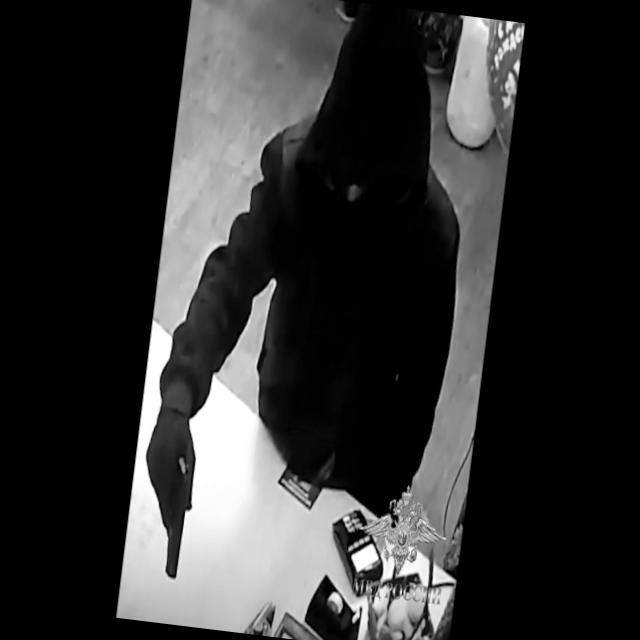gun: (132, 412, 202, 586)
person with a gun: (135, 0, 492, 611)
